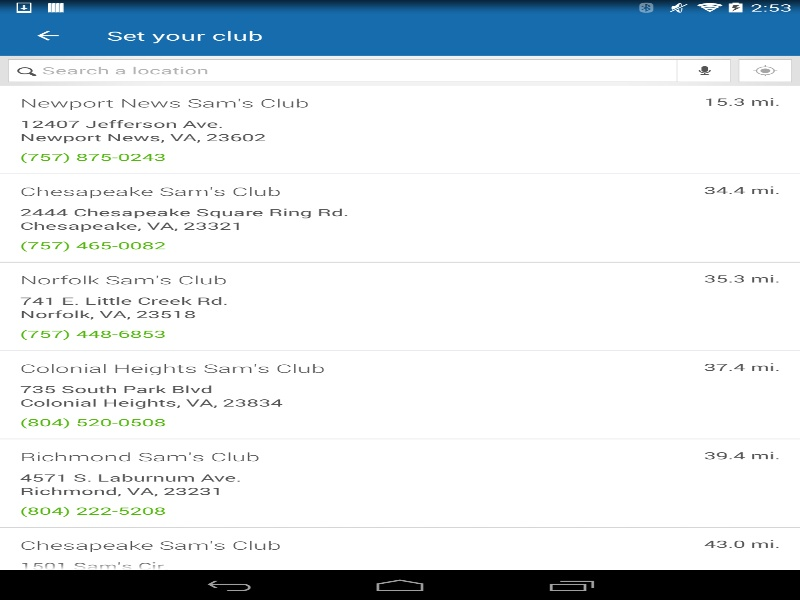Button: (10, 15, 85, 55), (738, 59, 792, 81), (677, 59, 730, 81)
Input: (17, 59, 670, 81)
